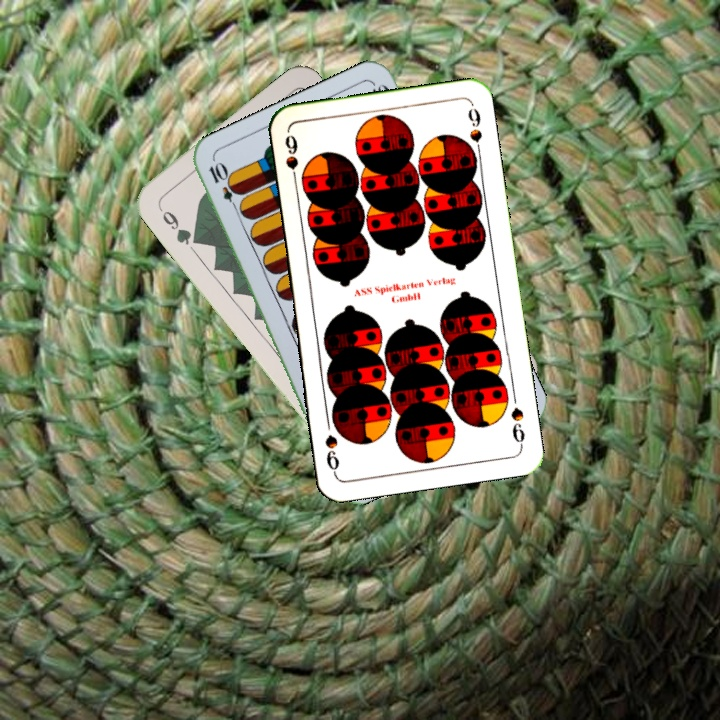E10: (204, 158, 243, 215)
G9: (153, 200, 200, 248)
S9: (281, 130, 301, 189), (507, 403, 528, 449)
